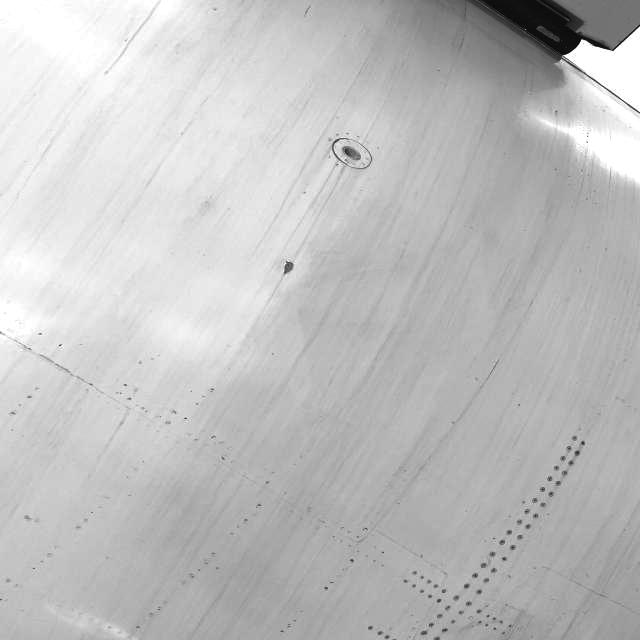crack: (477, 358, 506, 386), (277, 260, 296, 278)
